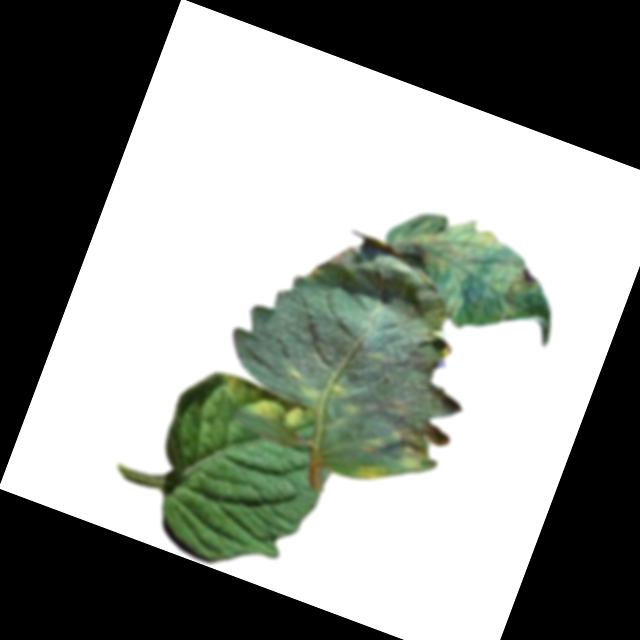Leaf_Mold: (389, 202, 500, 329), (361, 392, 454, 480), (212, 371, 317, 440), (481, 251, 545, 307), (353, 456, 391, 488)
